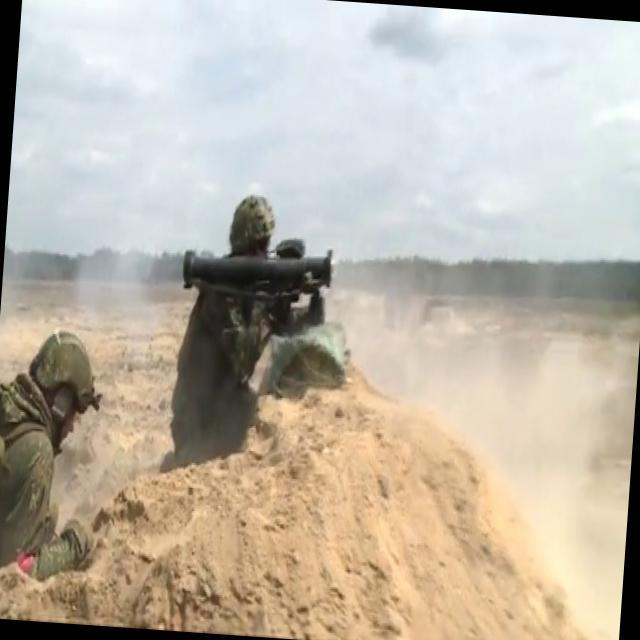rocket: (180, 231, 338, 304)
